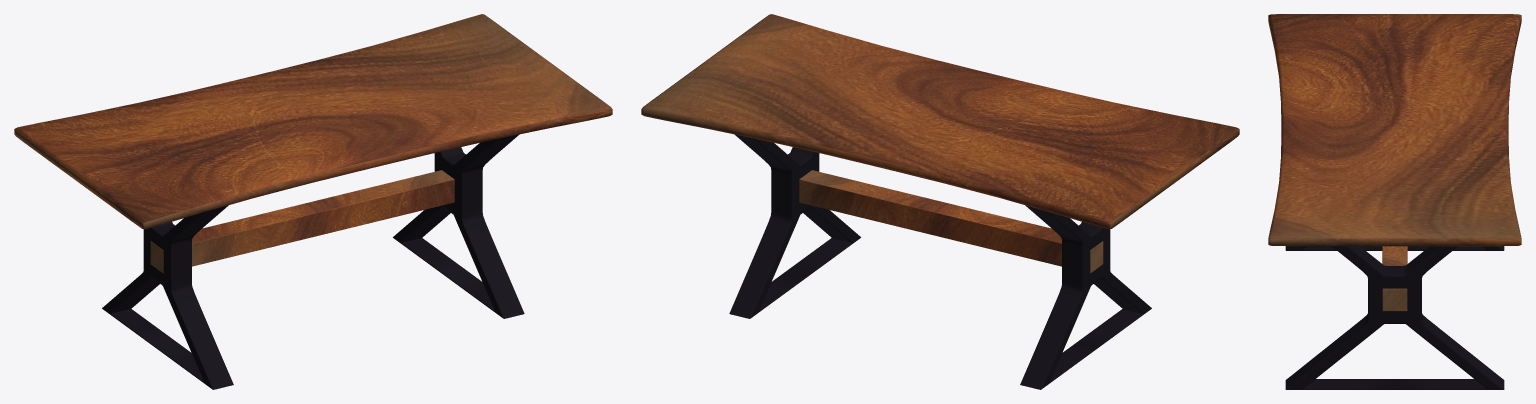
Rendered from TABLE1.fbx.
3 views of the same model, side by side, from view 1: azimuth 30°, elevation 25°; view 2: azimuth 150°, elevation 25°; view 3: azimuth 270°, elevation 25° (orthographic). The views are drawn at different scales.
Parts seen in each view (by area): view 1: Cube.002; view 2: Cube.002; view 3: Cube.002.
Boxes of the visible parts, left/top/right/bottom form: Cube.002: left=14, top=14, right=612, bottom=389; Cube.002: left=641, top=14, right=1239, bottom=389; Cube.002: left=1268, top=14, right=1521, bottom=389.
Bounding box in the file's own units: 213 × 84.77 × 102.
2 materials, 1 textured.
